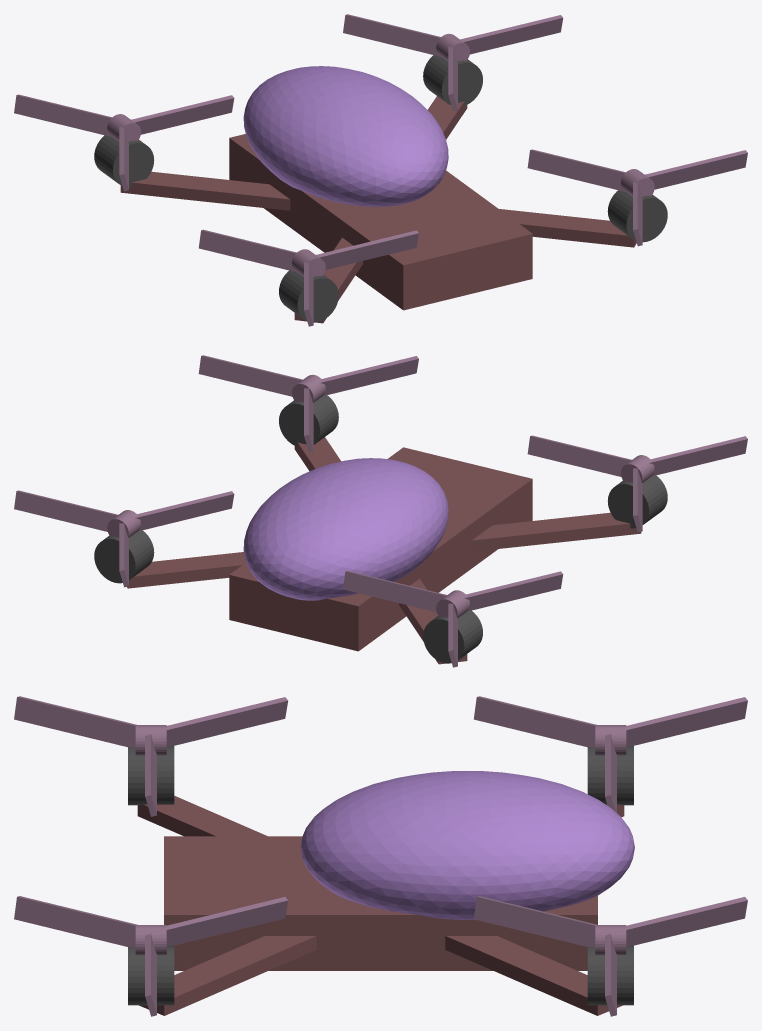
File: Hummingbird RS.glb
3 views of the same model, one above another, from view 1: azimuth 30°, elevation 25°; view 2: azimuth 150°, elevation 25°; view 3: azimuth 270°, elevation 25° (orthographic). The views are drawn at different scales.
Visible parts, largest first — view 1: canopy, frame_body, prop_0, prop_1, prop_2, prop_3, arm_3, arm_0, motor_2, motor_0, motor_1, motor_3 (+2 smaller); view 2: canopy, frame_body, prop_2, prop_0, prop_1, prop_3, arm_2, arm_1, motor_3, motor_1, motor_0, motor_2 (+2 smaller); view 3: canopy, frame_body, prop_2, prop_1, prop_0, prop_3, arm_1, arm_0, arm_2, motor_0, motor_1, motor_2 (+1 smaller).
Part boxes in pixels (<box>): canopy: <box>243,66,448,206</box>; frame_body: <box>229,134,532,310</box>; prop_0: <box>527,149,747,246</box>; prop_1: <box>343,14,563,111</box>; prop_2: <box>198,229,418,326</box>; prop_3: <box>14,94,234,191</box>; arm_3: <box>120,171,290,210</box>; arm_0: <box>499,209,636,247</box>; motor_2: <box>279,270,338,322</box>; motor_0: <box>607,190,667,242</box>; motor_1: <box>423,55,482,105</box>; motor_3: <box>94,135,154,187</box>; canopy: <box>243,458,448,600</box>; frame_body: <box>229,447,532,651</box>; prop_2: <box>527,435,747,532</box>; prop_0: <box>198,355,418,451</box>; prop_1: <box>14,490,234,587</box>; prop_3: <box>343,570,563,667</box>; arm_2: <box>471,512,641,551</box>; arm_1: <box>127,552,245,588</box>; motor_3: <box>423,610,482,663</box>; motor_1: <box>94,530,154,583</box>; motor_0: <box>279,395,338,446</box>; motor_2: <box>607,475,667,528</box>; canopy: <box>300,771,634,919</box>; frame_body: <box>164,836,597,970</box>; prop_2: <box>14,696,288,816</box>; prop_1: <box>473,896,747,1016</box>; prop_0: <box>14,896,288,1016</box>; prop_3: <box>473,696,747,812</box>; arm_1: <box>445,936,622,1015</box>; arm_0: <box>139,936,316,1015</box>; arm_2: <box>137,795,267,836</box>; motor_0: <box>128,945,174,1005</box>; motor_1: <box>587,945,633,1005</box>; motor_2: <box>128,746,174,805</box>.
Bounding box in the file's own units: 0.2293 × 0.0516 × 0.2369.
